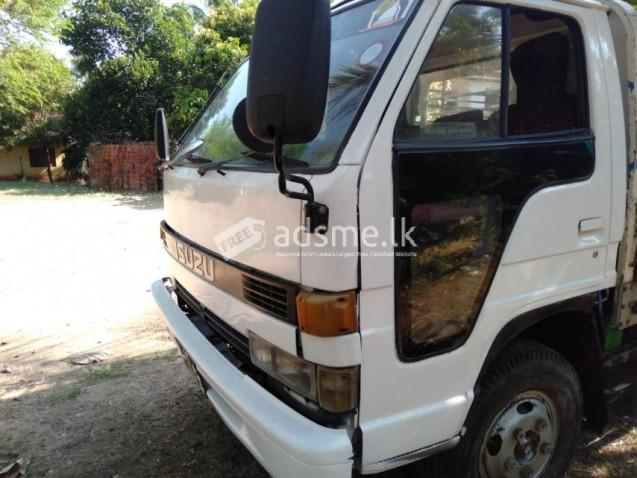truck: (150, 1, 637, 478)
